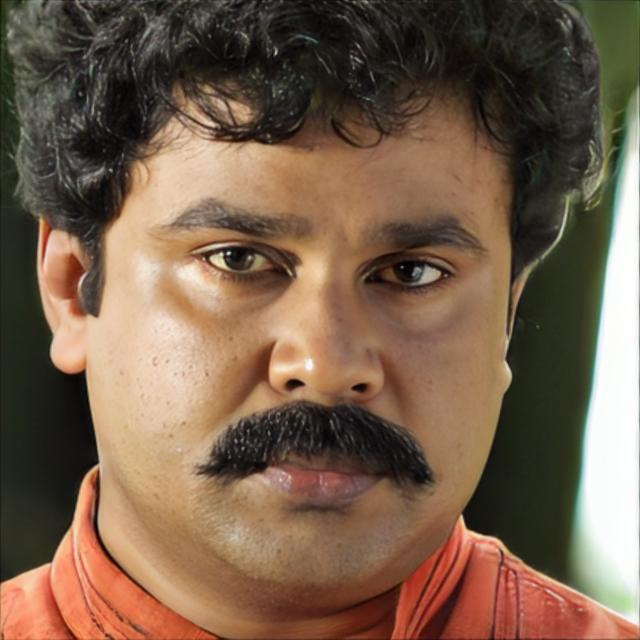anger: (90, 83, 520, 600)
